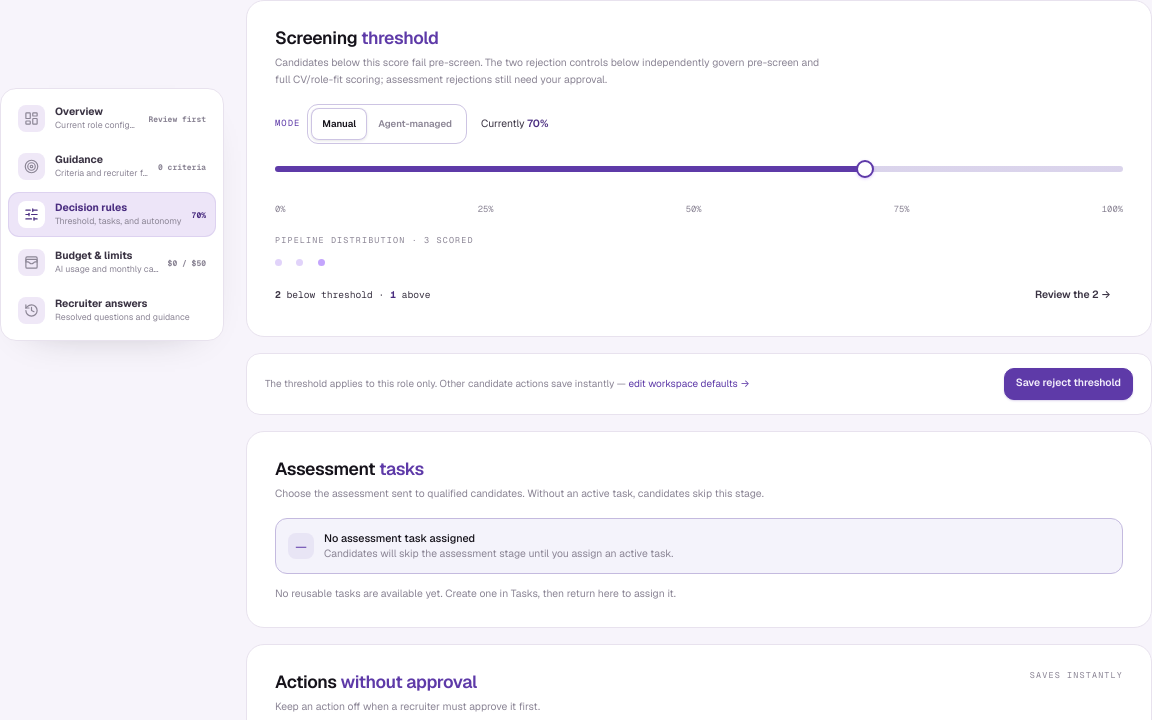
Scenario: RoleAgentSettingsTab focused sections › recalculates the threshold preview from the current unsaved draft
This screenshot has width=1152, height=720.
Expected: the element with class "mc-agent-settings-distribution-summary" shows "2 below threshold", left=275, top=280, right=1123, bottom=312
Expected: the element with class "mc-agent-settings-distribution-summary" shows "1 above", left=275, top=280, right=1123, bottom=312
Click the link "Overview Current role configuration Review first". click: click(112, 118)
box: left=8, top=96, right=216, bottom=141
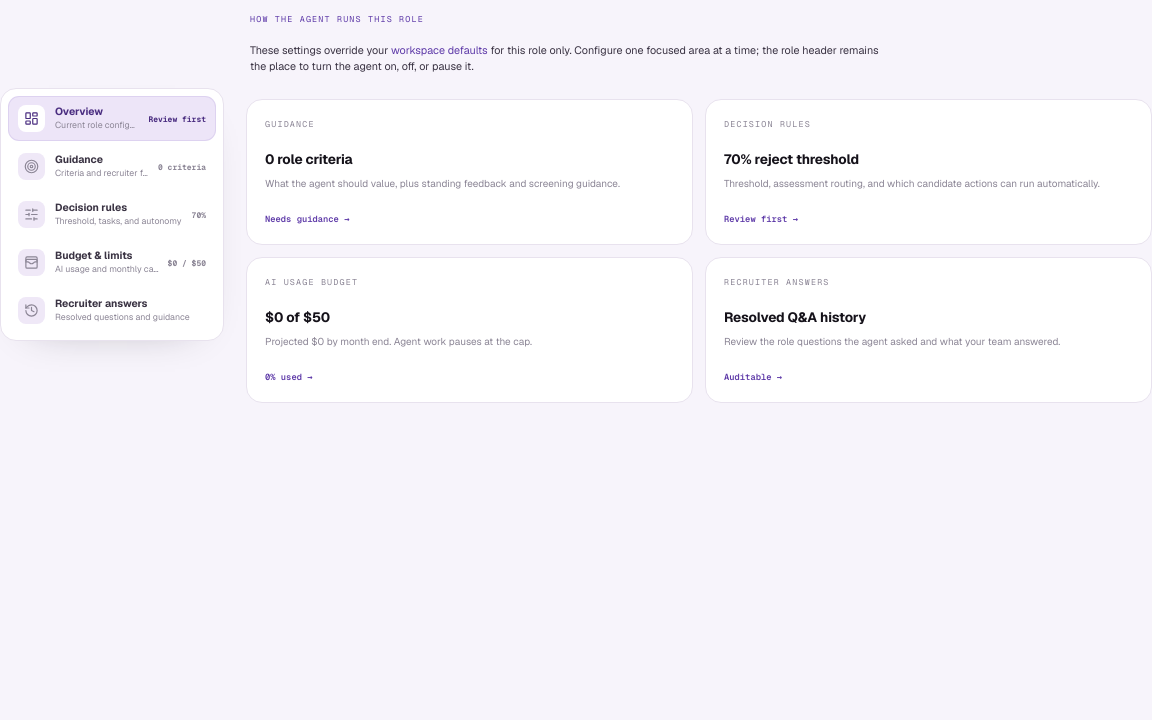
Click the link "Decision rules Threshold, tasks, and autonomy 70%". click: click(112, 214)
box: left=8, top=192, right=216, bottom=237
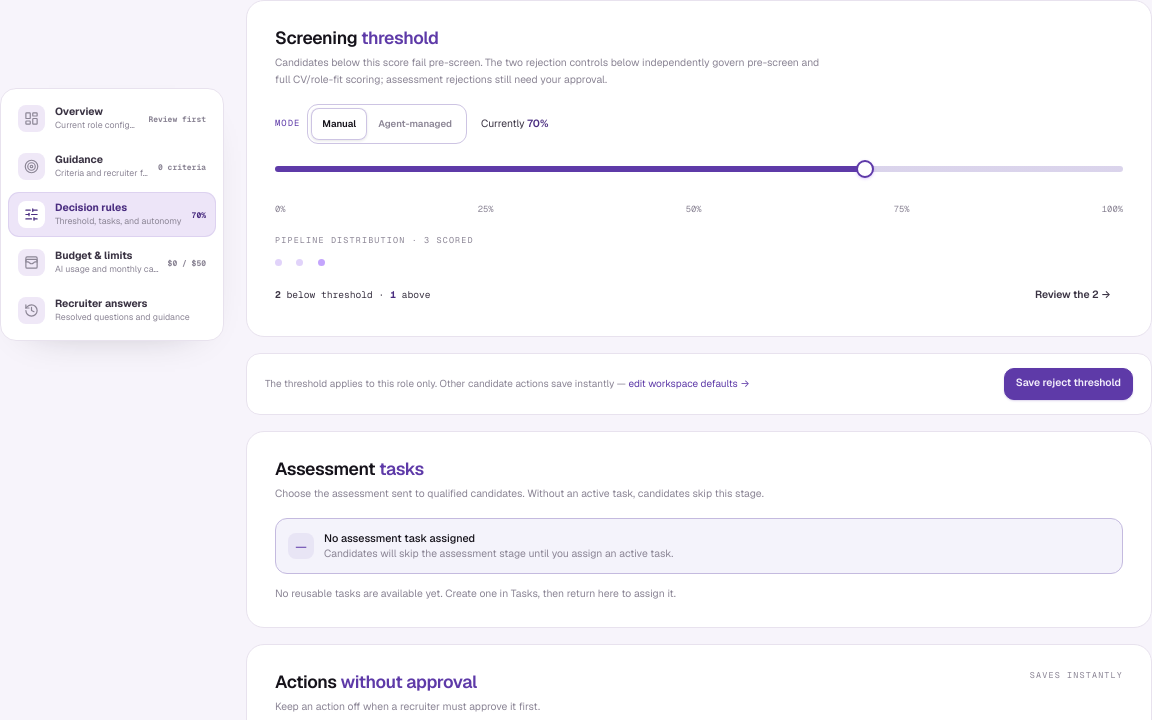
Now the slider named "Screening threshold percent" holds "70", box left=275, top=154, right=1123, bottom=184
